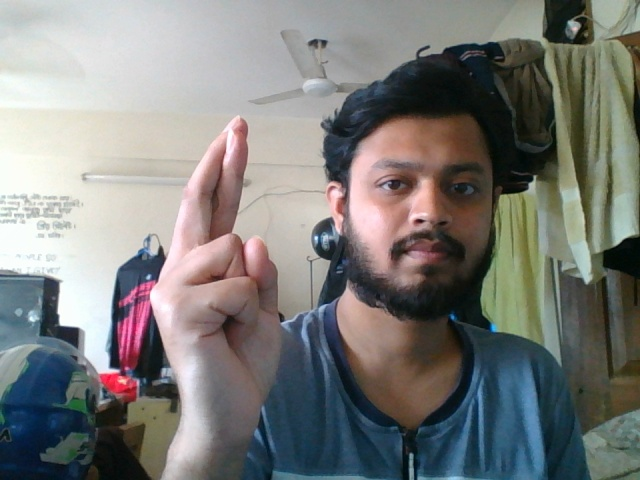r: (147, 114, 286, 454)
